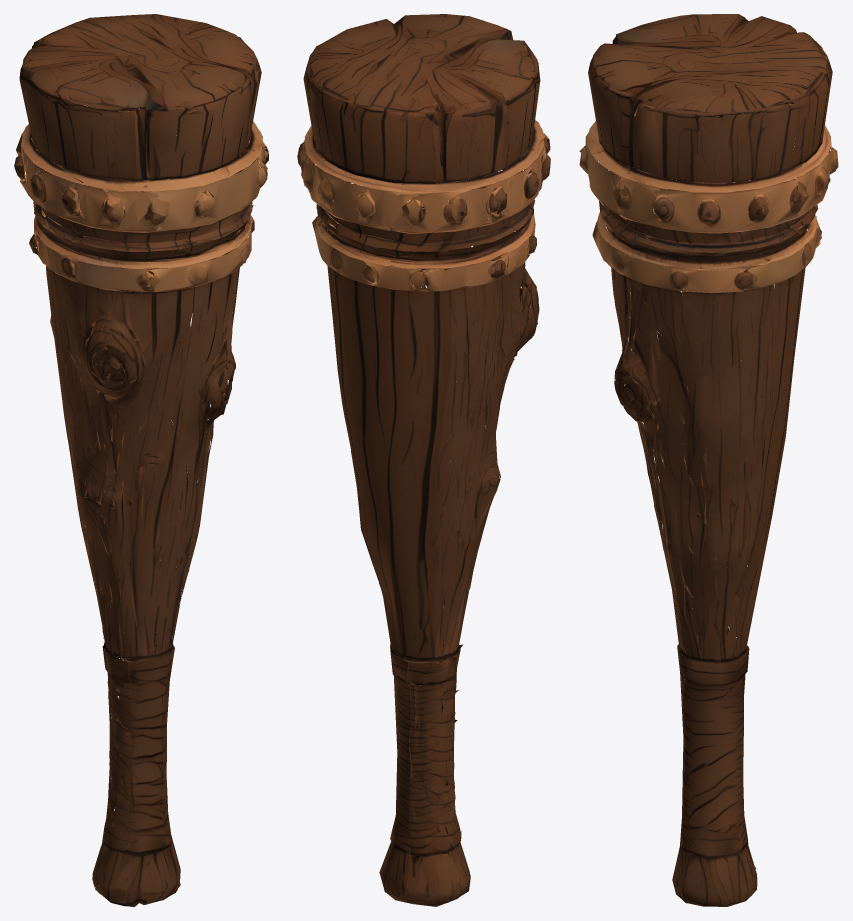
Rendered from club.glb.
3 renders of one model, left to right at view 1: azimuth 30°, elevation 25°; view 2: azimuth 150°, elevation 25°; view 3: azimuth 270°, elevation 25°, orthographic.
Visible parts, largest first — view 1: club; view 2: club; view 3: club.
Part boxes in pixels (x1,y1,x2,y2): club: (14, 14, 268, 906); club: (297, 14, 550, 906); club: (579, 14, 838, 906).
Size of the model in its own units: 1.53 by 5.5 by 1.54.
Materials: 1 (1 with a texture image).
